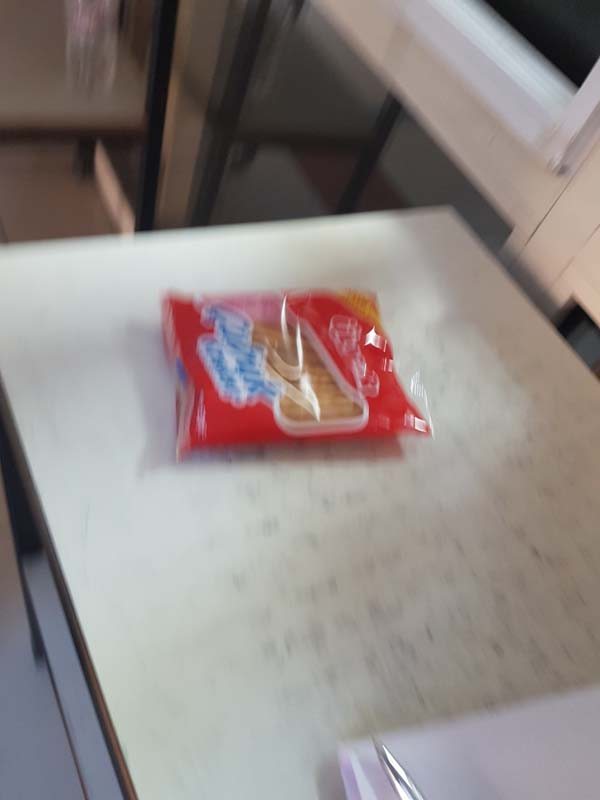eticubuk: (165, 286, 431, 443)
